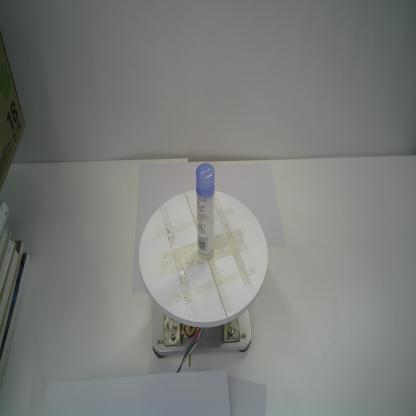Stationery: (195, 161, 216, 261)
